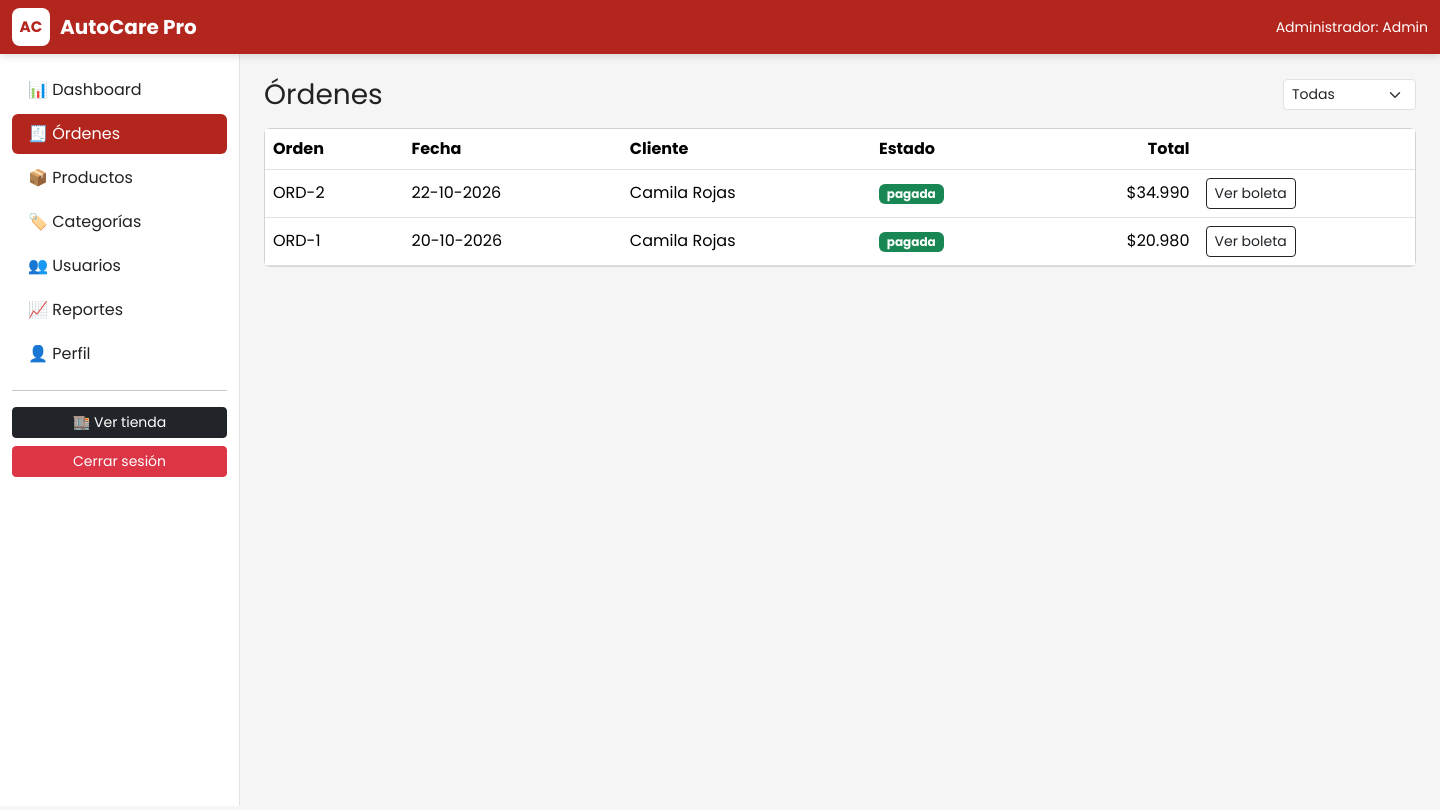
Test: Panel de administración › usuarios, órdenes y reportes › filtra órdenes por estado y abre la boleta
Select "Rechazadas" in the dropdown named "Filtrar por estado" at coordinates (1350, 95), box [1283,79,1416,110]
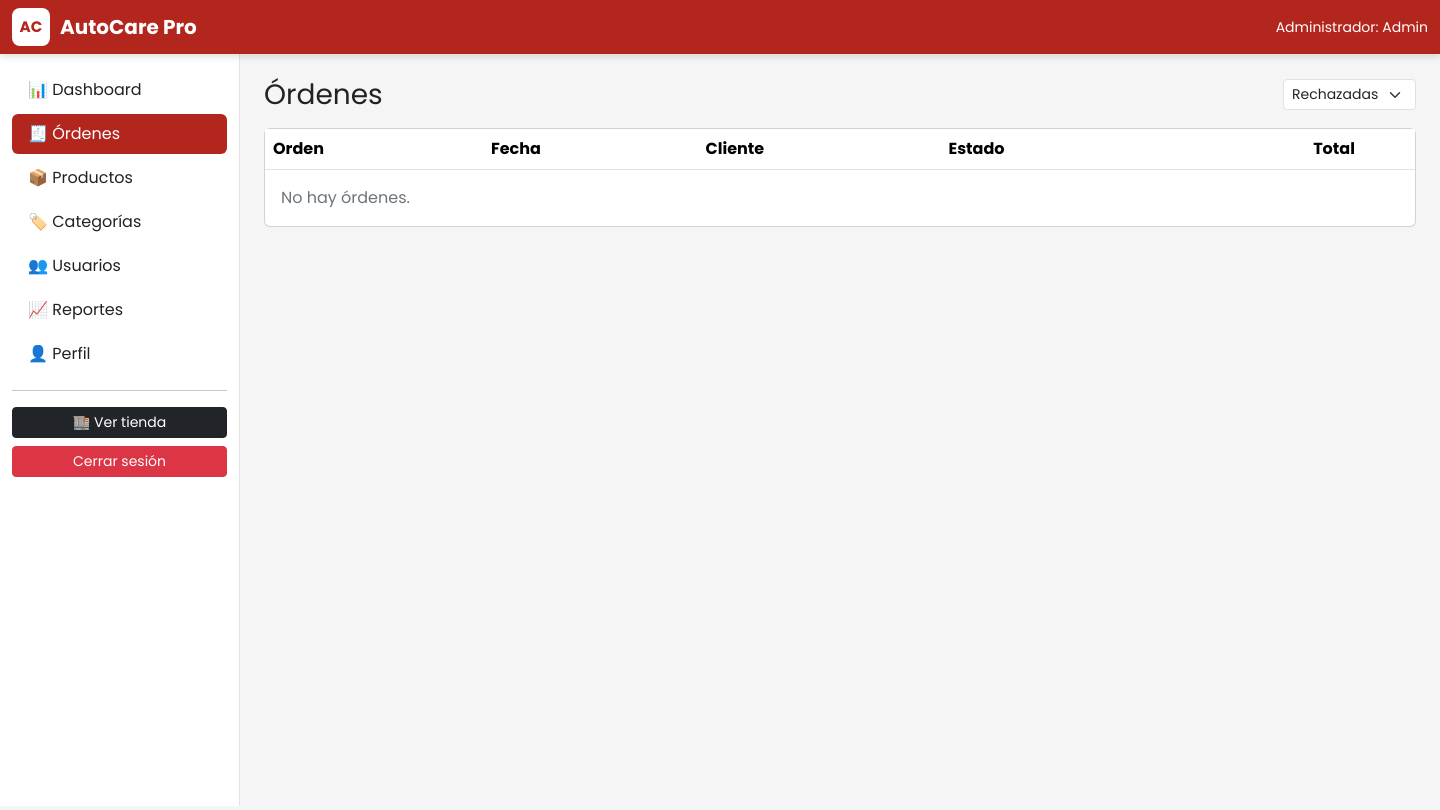
Check: the text "No hay órdenes." is shown, box [281,186,410,209]
Select "Todas" in the dropdown named "Filtrar por estado" at coordinates (1350, 95), box [1283,79,1416,110]
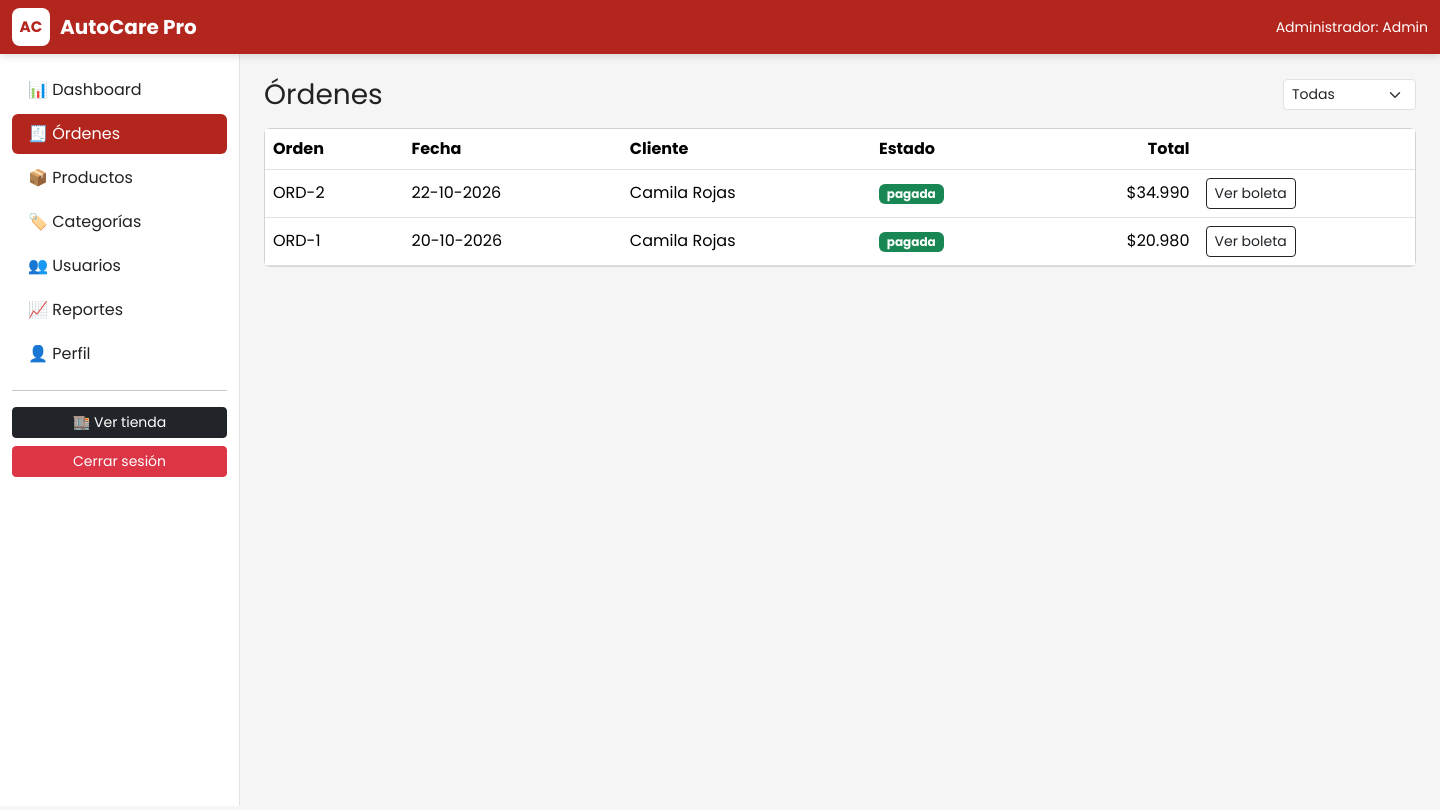
Click the link "Ver boleta" in the row of "22-10-2026".
click(1251, 193)  # box [1206,178,1296,209]
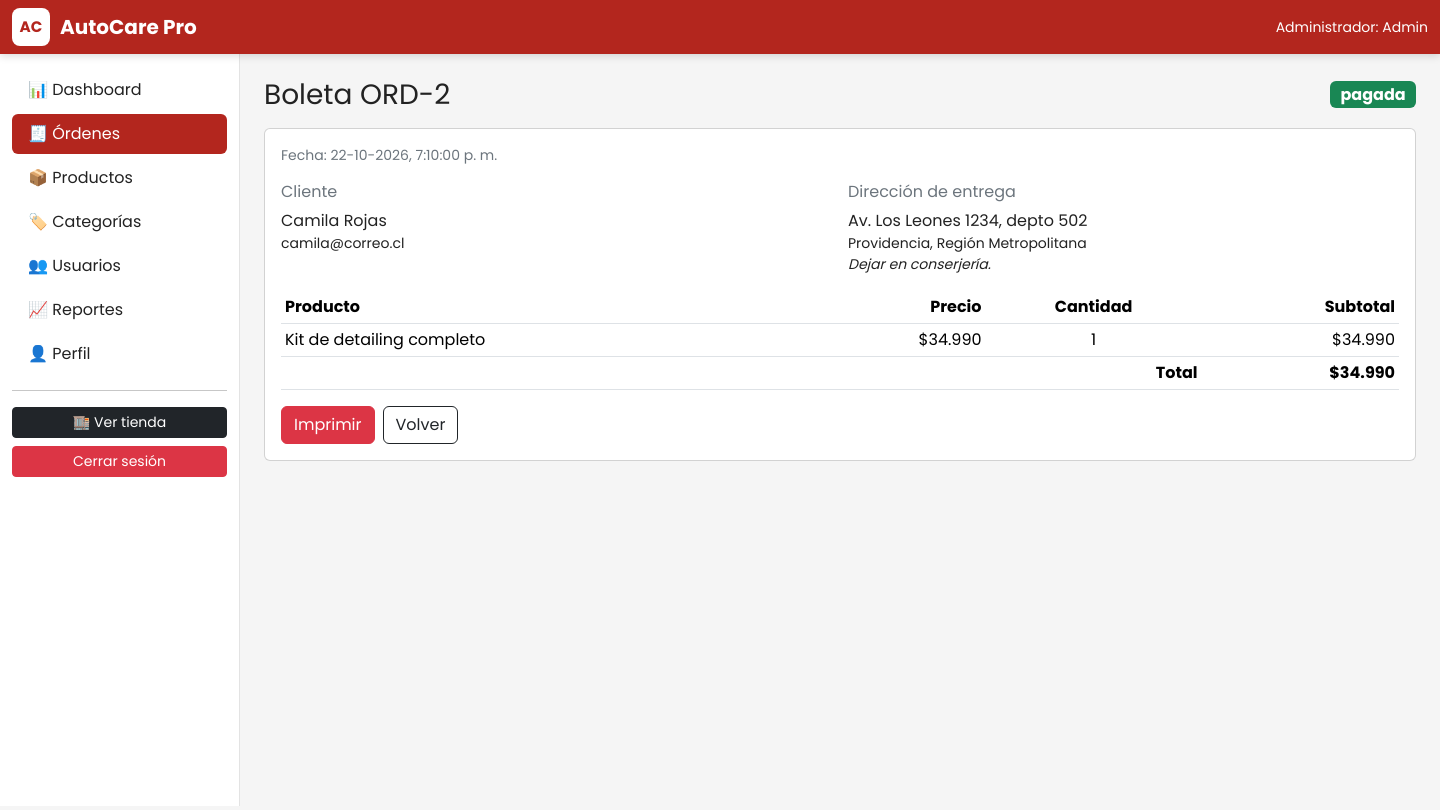
Check: the heading "Boleta ORD-2" is shown, box [264,78,450,112]
Check: the column heading with test id "total-orden" reads "$34.990", box [1329,361,1395,384]
